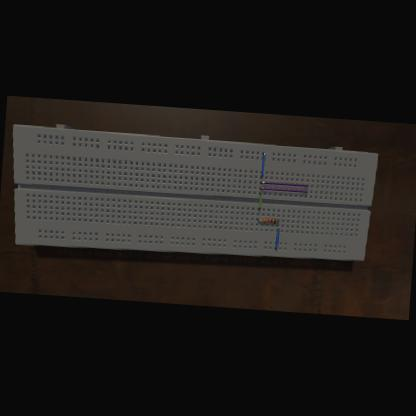breadboard: (5, 121, 379, 269)
resistor: (262, 219, 276, 224)
wire: (260, 182, 308, 186), (260, 188, 308, 192), (260, 153, 266, 178), (274, 226, 280, 250), (258, 193, 262, 210), (257, 219, 262, 220), (278, 220, 280, 222)
